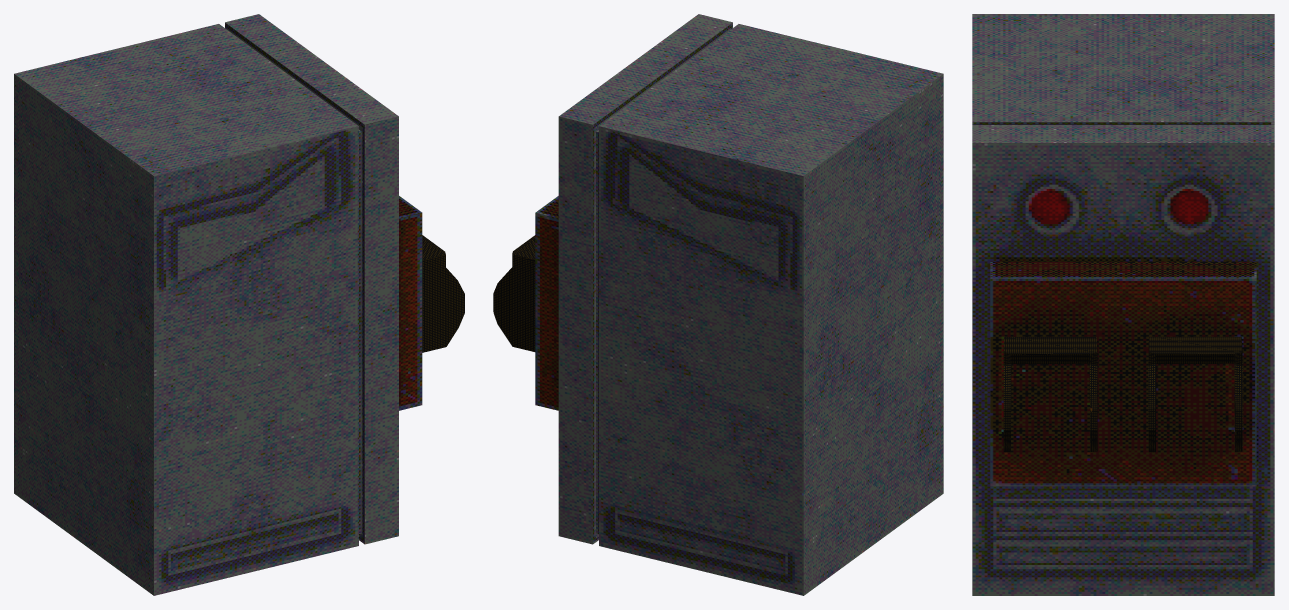
The model's file is cajita_Fusibles_Grande_Anim.fbx.
3 views of the same model, side by side, from view 1: azimuth 30°, elevation 25°; view 2: azimuth 150°, elevation 25°; view 3: azimuth 270°, elevation 25° (orthographic). The views are drawn at different scales.
Visible parts, largest first — view 1: polySurface29; view 2: polySurface29; view 3: polySurface29.
Part boxes in pixels (x1=…): polySurface29: x1=14, y1=14, x2=464, y2=595; polySurface29: x1=493, y1=14, x2=943, y2=595; polySurface29: x1=972, y1=14, x2=1274, y2=595.
Size of the model in its own units: 0.4068 by 0.5011 by 0.3029.
